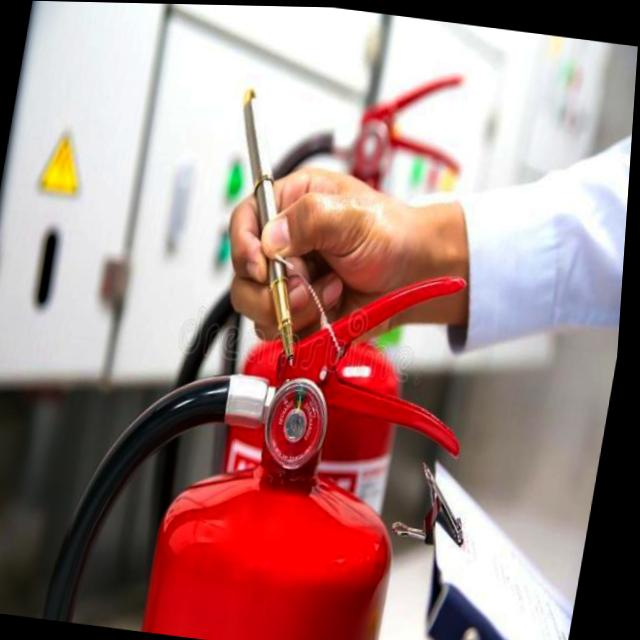FireExtinguisher: (40, 226, 502, 640), (132, 188, 454, 640)
